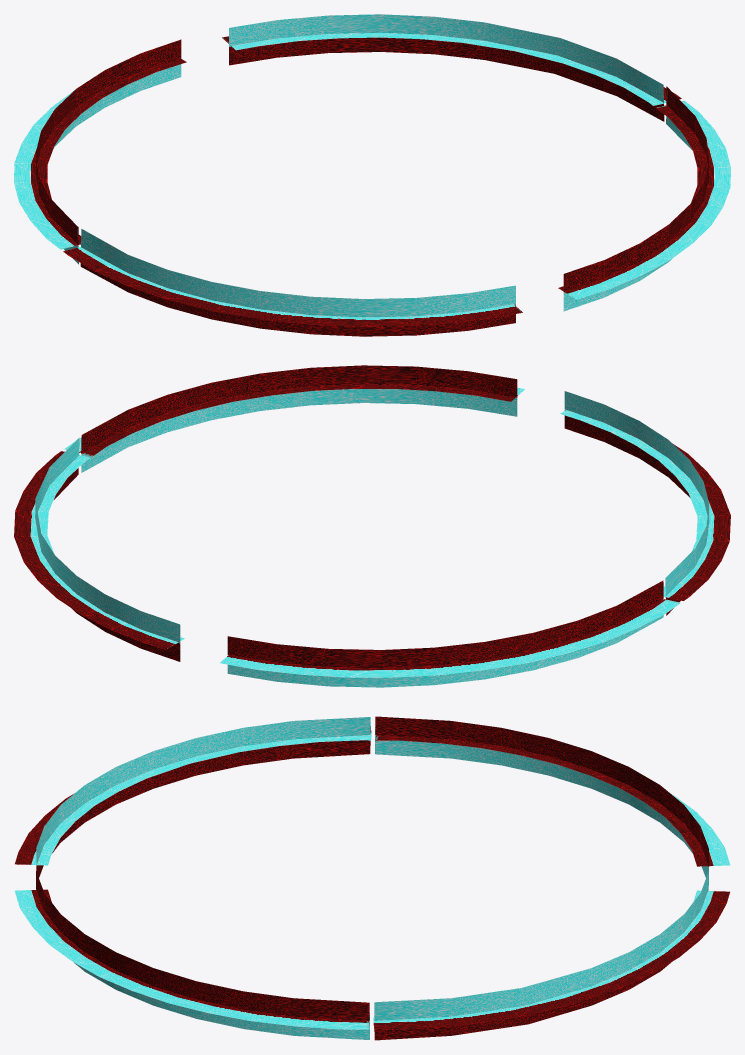
The model's file is SM_CrossCylinder_01_HJS.fbx.
3 renders of one model, top to bottom at view 1: azimuth 30°, elevation 25°; view 2: azimuth 150°, elevation 25°; view 3: azimuth 270°, elevation 25°, orthographic.
Parts seen in each view (by area): view 1: SM_CrossCylinder_01_HJS; view 2: SM_CrossCylinder_01_HJS; view 3: SM_CrossCylinder_01_HJS.
Boxes of the visible parts, x1,y1,x2,y2 form: SM_CrossCylinder_01_HJS: (14, 14, 730, 336); SM_CrossCylinder_01_HJS: (14, 365, 730, 687); SM_CrossCylinder_01_HJS: (14, 716, 730, 1040).
Bounding box in the file's own units: 712 × 41.48 × 711.
